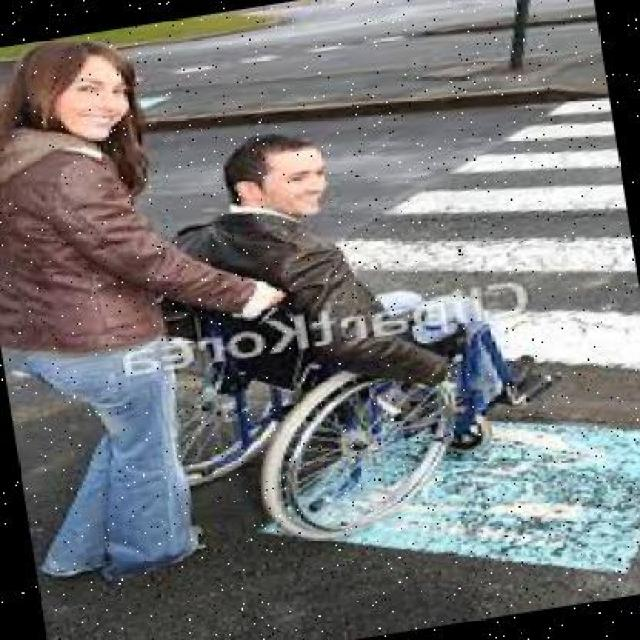obstacle: (130, 98, 572, 559), (0, 13, 312, 589)
